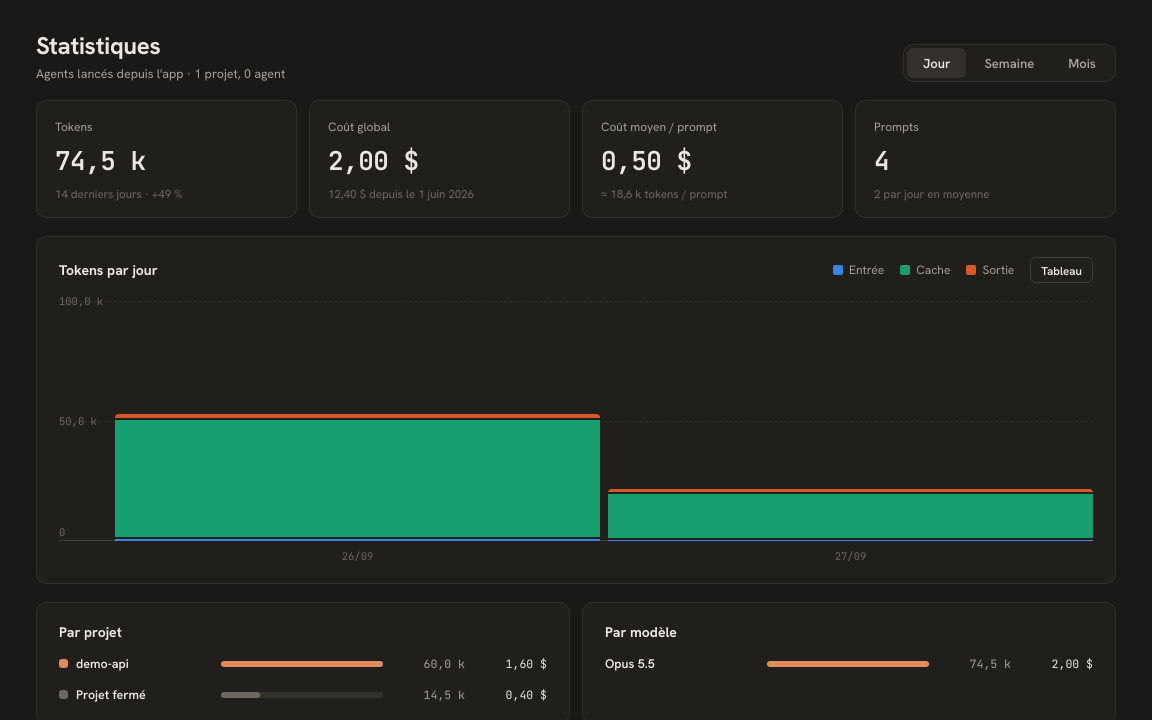
it: Stats › offers a table view of the buckets
Click the button "Tableau". click: point(1062, 270)
box: top-left (1030, 257), bottom-right (1093, 283)
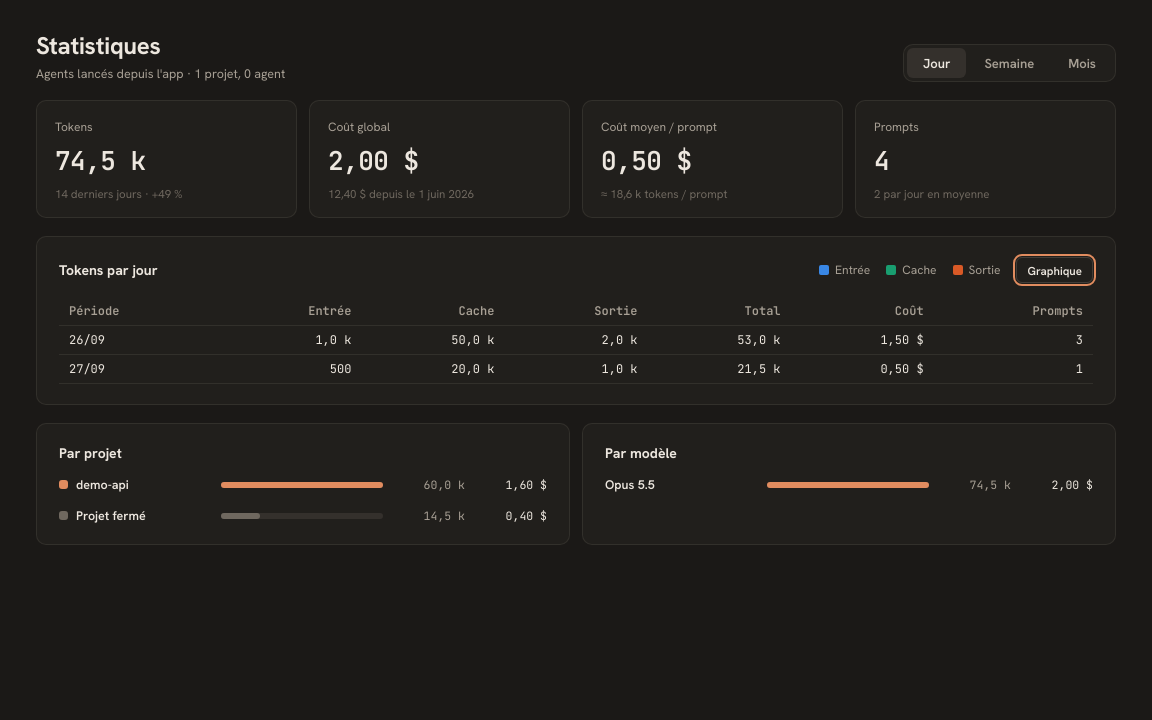
Check: the number of rows is 3, box top-left (59, 297), bottom-right (1093, 326); top-left (59, 326), bottom-right (1093, 354); top-left (59, 354), bottom-right (1093, 384)
Check: the row "26/09 1,0 k 50,0 k 2,0 k 53,0 k 1,50 $ 3" is shown, box top-left (59, 326), bottom-right (1093, 354)
